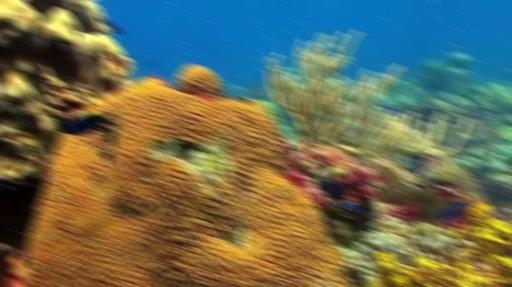Fish: (62, 111, 117, 135)
